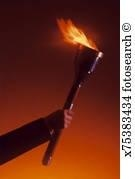fire: (55, 16, 99, 50)
